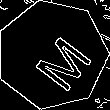M_NW: (17, 21, 87, 89)
